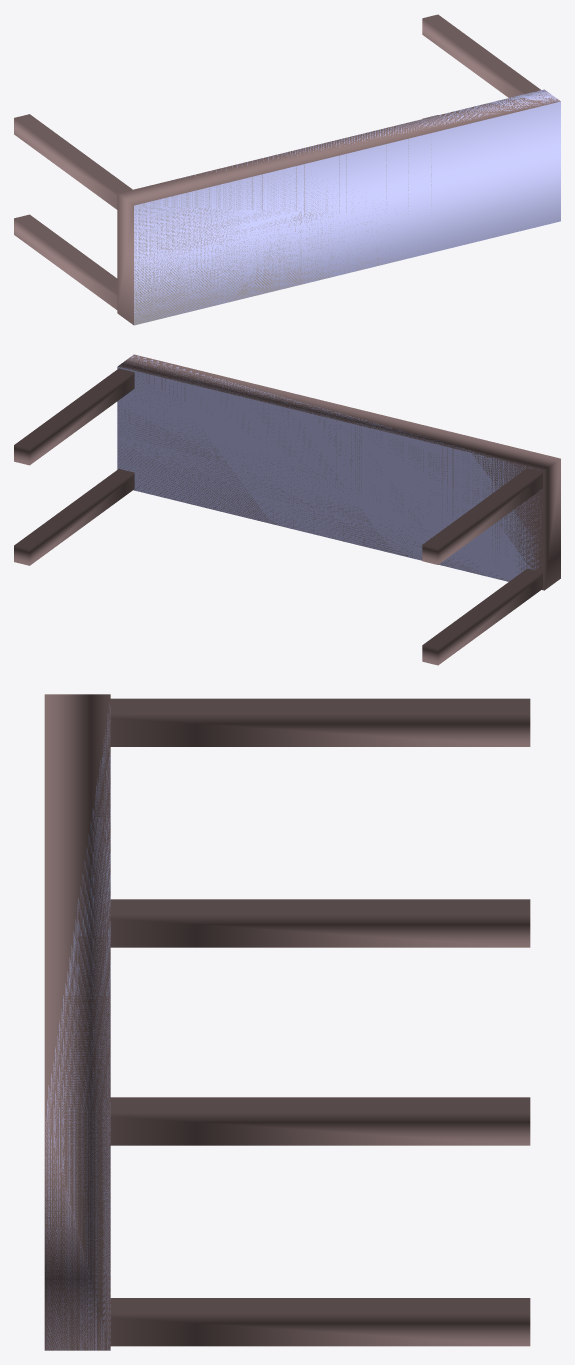
The model's file is table.dae.
3 renders of one model, top to bottom at view 1: azimuth 30°, elevation 25°; view 2: azimuth 150°, elevation 25°; view 3: azimuth 270°, elevation 25°, orthographic. The views are drawn at different scales.
Visible parts, largest first — view 1: Node_0x7fe30e9f18a0 (×6); view 2: Node_0x7fe30e9f18a0 (×6); view 3: Node_0x7fe30e9f18a0 (×6).
Part boxes in pixels (x1=…): Node_0x7fe30e9f18a0 (×6): x1=14, y1=14, x2=560, y2=325; Node_0x7fe30e9f18a0 (×6): x1=14, y1=354, x2=560, y2=665; Node_0x7fe30e9f18a0 (×6): x1=44, y1=694, x2=530, y2=1350.
Size of the model in its own units: 1.49 by 0.4 by 0.7342.
